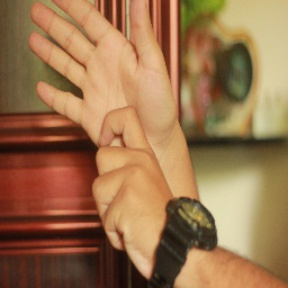R: (26, 1, 170, 224)
